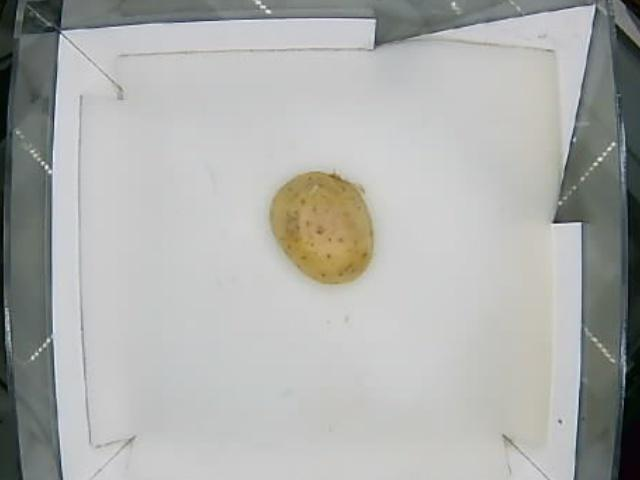Potato: (265, 171, 375, 284)
